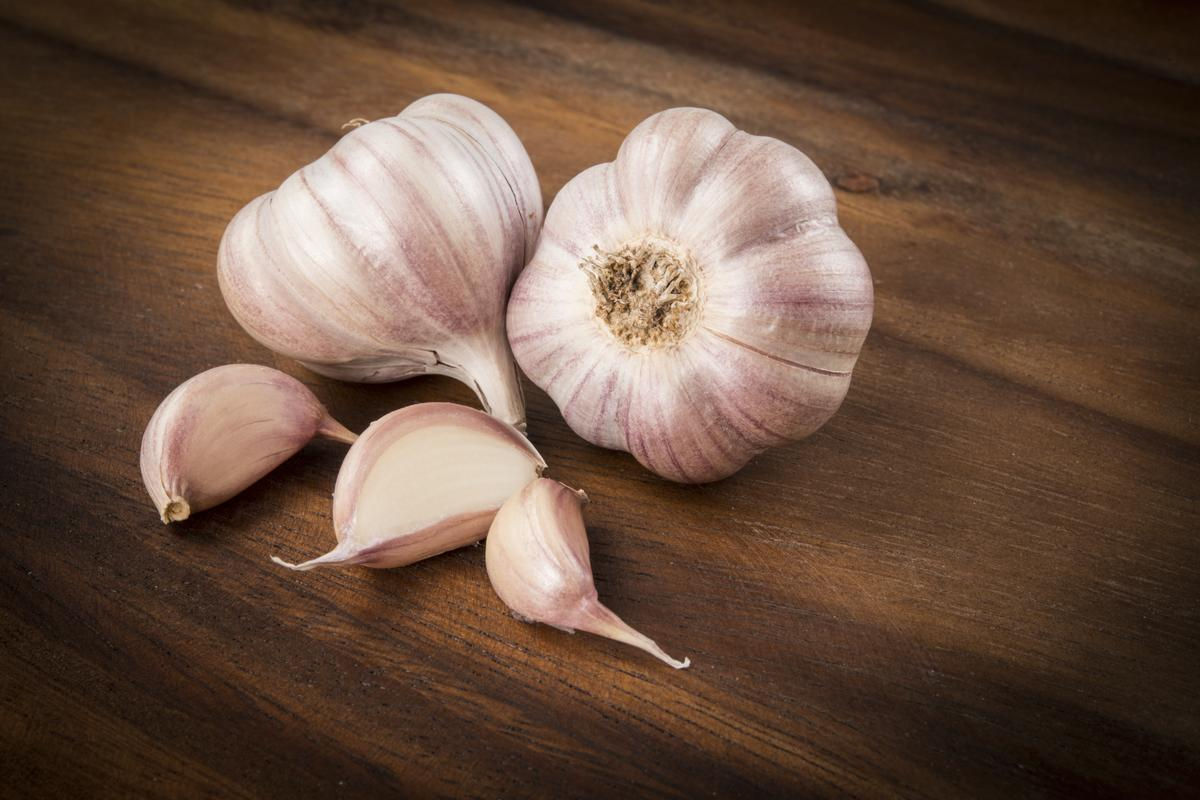garlic: (504, 105, 875, 485), (215, 91, 544, 436), (268, 399, 547, 573), (483, 475, 691, 670), (138, 361, 359, 525)
